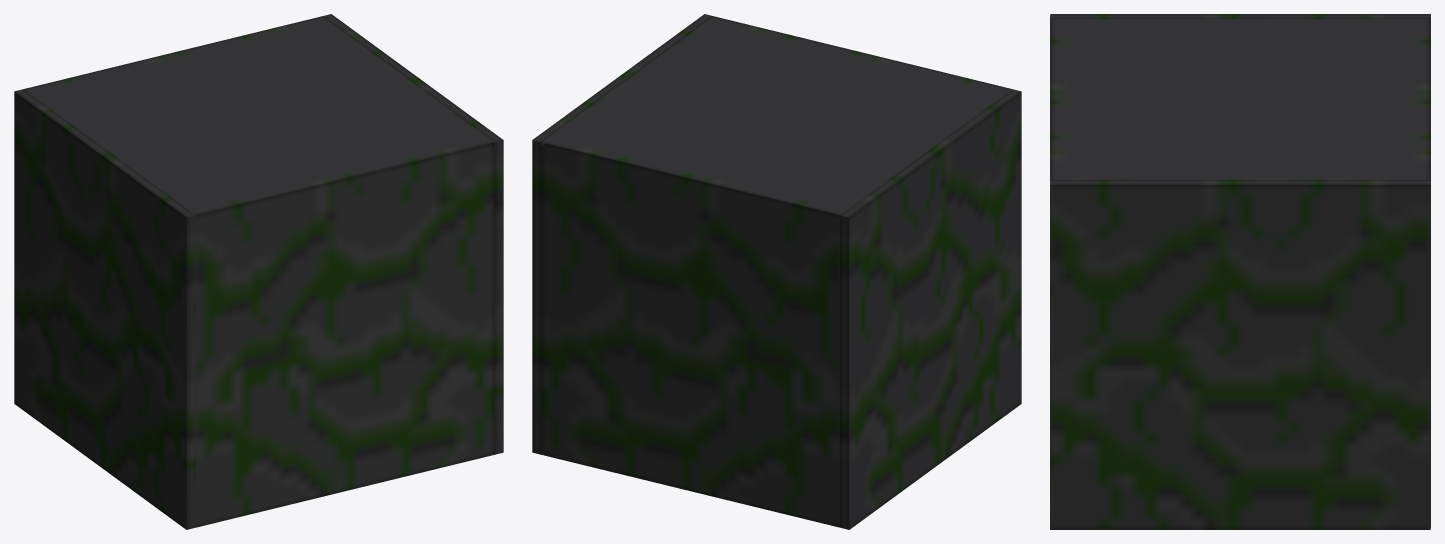
The picture shows the model from 3 angles, left to right: view 1: azimuth 30°, elevation 25°; view 2: azimuth 150°, elevation 25°; view 3: azimuth 270°, elevation 25°; orthographic projection. The views are drawn at different scales.
Parts seen in each view (by area): view 1: RW; view 2: RW; view 3: RW.
Boxes of the visible parts, x1,y1,x2,y2 form: RW: (14,14,503,529); RW: (532,14,1021,529); RW: (1050,14,1430,529).
Bounding box in the file's own units: 34 × 32 × 32.
1 material, 1 textured.
